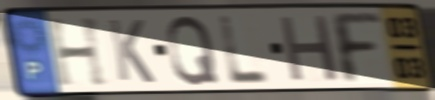F: (326, 10, 386, 86)
H: (45, 15, 111, 90), (277, 12, 341, 85)
K: (105, 17, 158, 86)
L: (217, 13, 273, 86)
Q: (164, 13, 221, 88)
